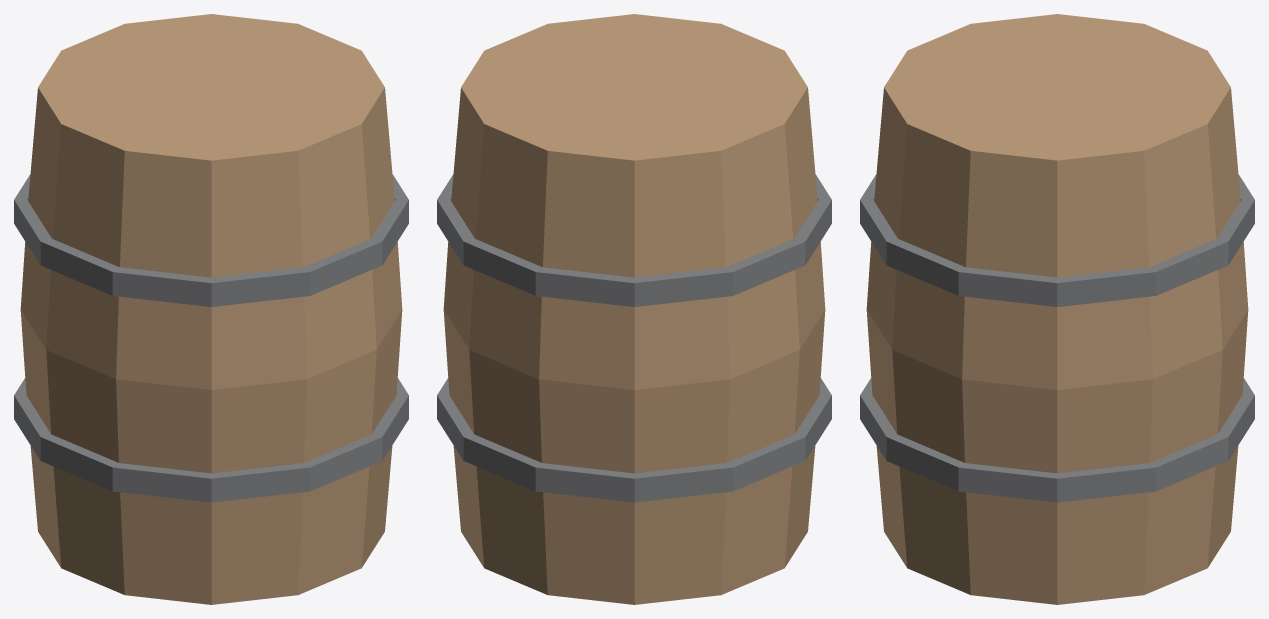
The model's file is barrel.glb.
3 renders of one model, left to right at view 1: azimuth 30°, elevation 25°; view 2: azimuth 150°, elevation 25°; view 3: azimuth 270°, elevation 25°, orthographic.
Parts seen in each view (by area): view 1: BarrelBody, BarrelHoop1, BarrelHoop0; view 2: BarrelBody, BarrelHoop1, BarrelHoop0; view 3: BarrelBody, BarrelHoop1, BarrelHoop0.
Boxes of the visible parts, x1,y1,x2,y2 form: BarrelBody: (20,14,402,604); BarrelHoop1: (14,174,408,306); BarrelHoop0: (14,378,408,502); BarrelBody: (443,14,825,604); BarrelHoop1: (437,174,831,306); BarrelHoop0: (437,378,831,502); BarrelBody: (866,14,1248,604); BarrelHoop1: (860,174,1254,306); BarrelHoop0: (860,378,1254,502).
Size of the model in its own units: 1.05 by 1.3 by 1.05.
